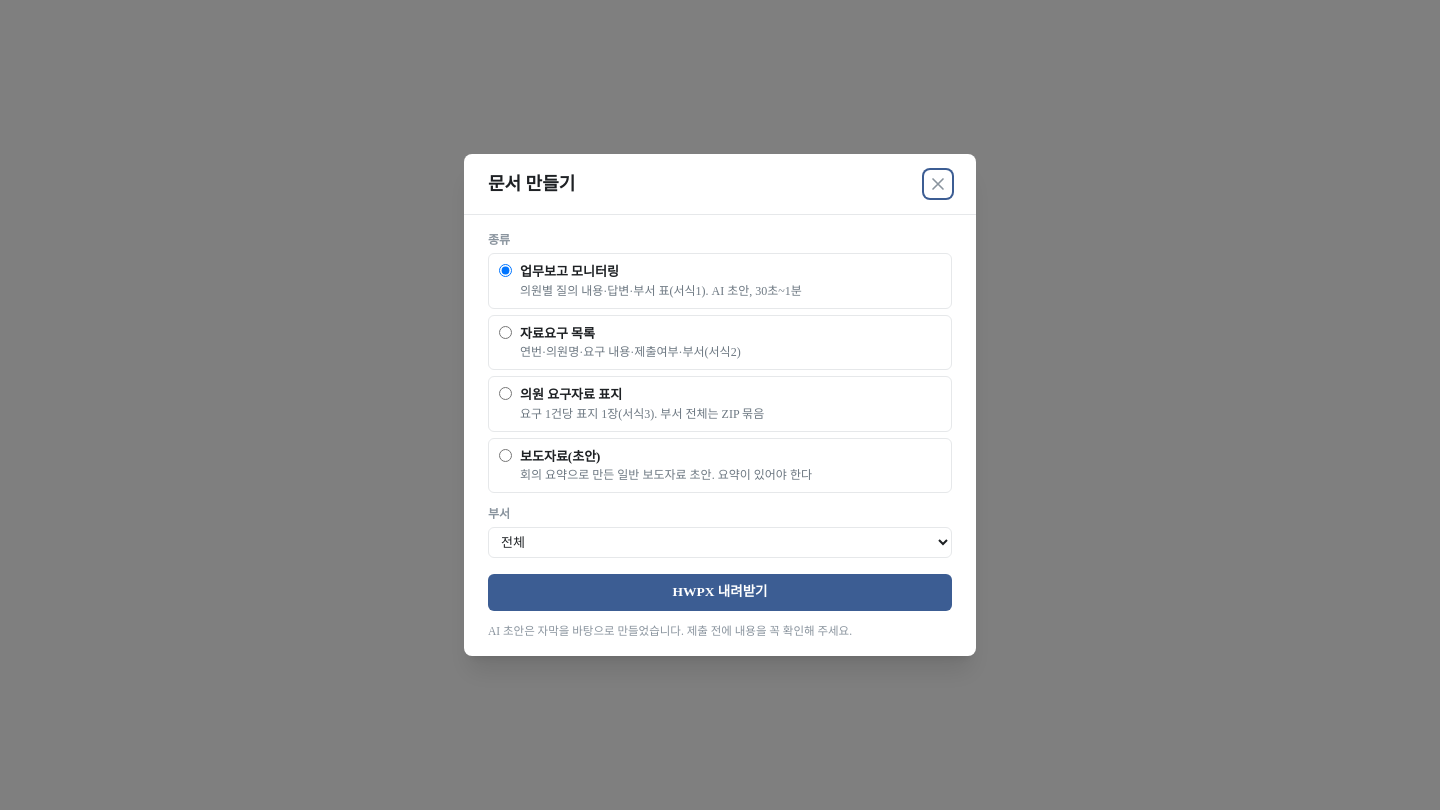
Scenario: MeetingDocumentsModal › cover picks one request or the department bundle, and warns when no summary for press
Click the text "의원 요구자료 표지" at (571, 395), box [520,387,622,402]
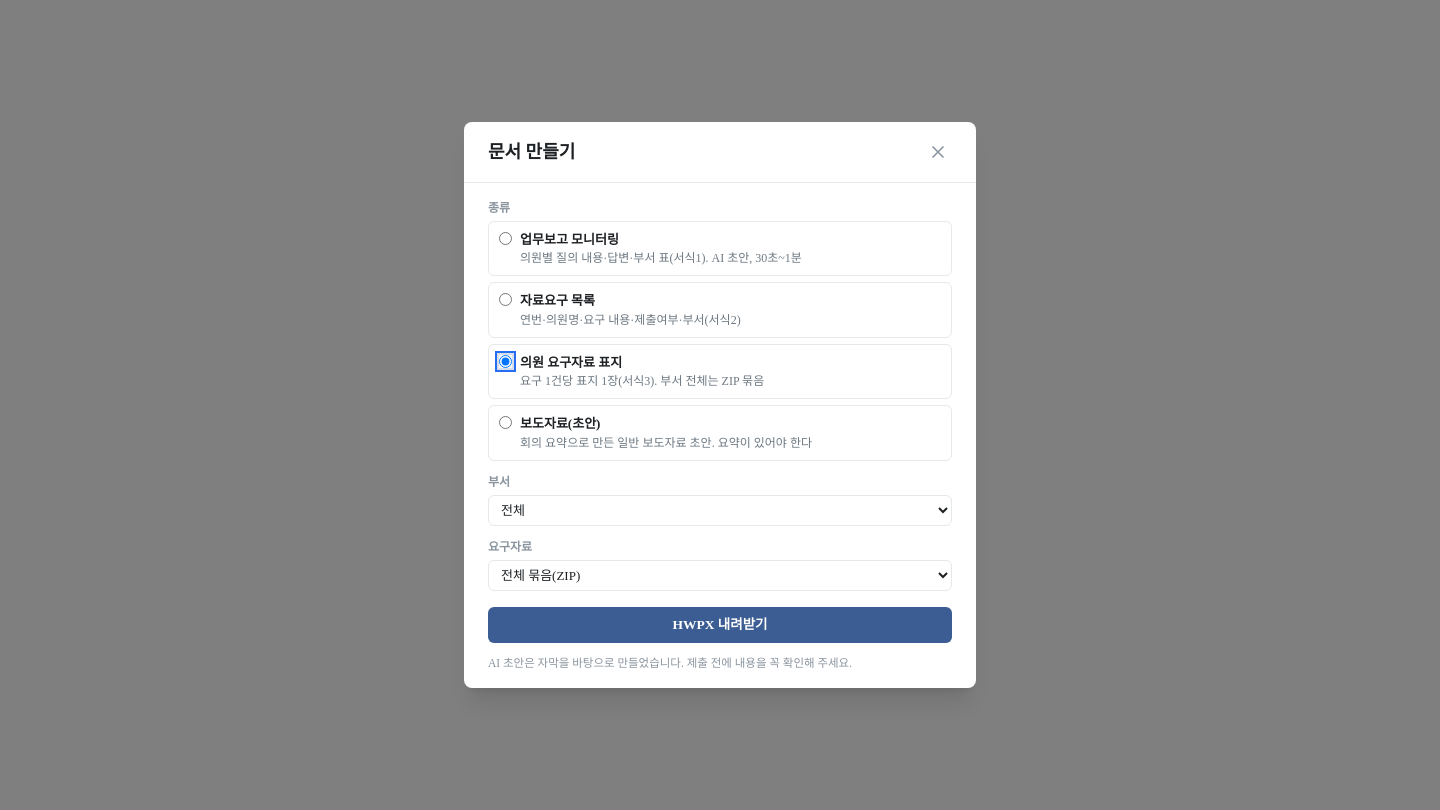
Select "의회사무처" in the dropdown labelled "부서" at (720, 510), box [488,495,952,526]
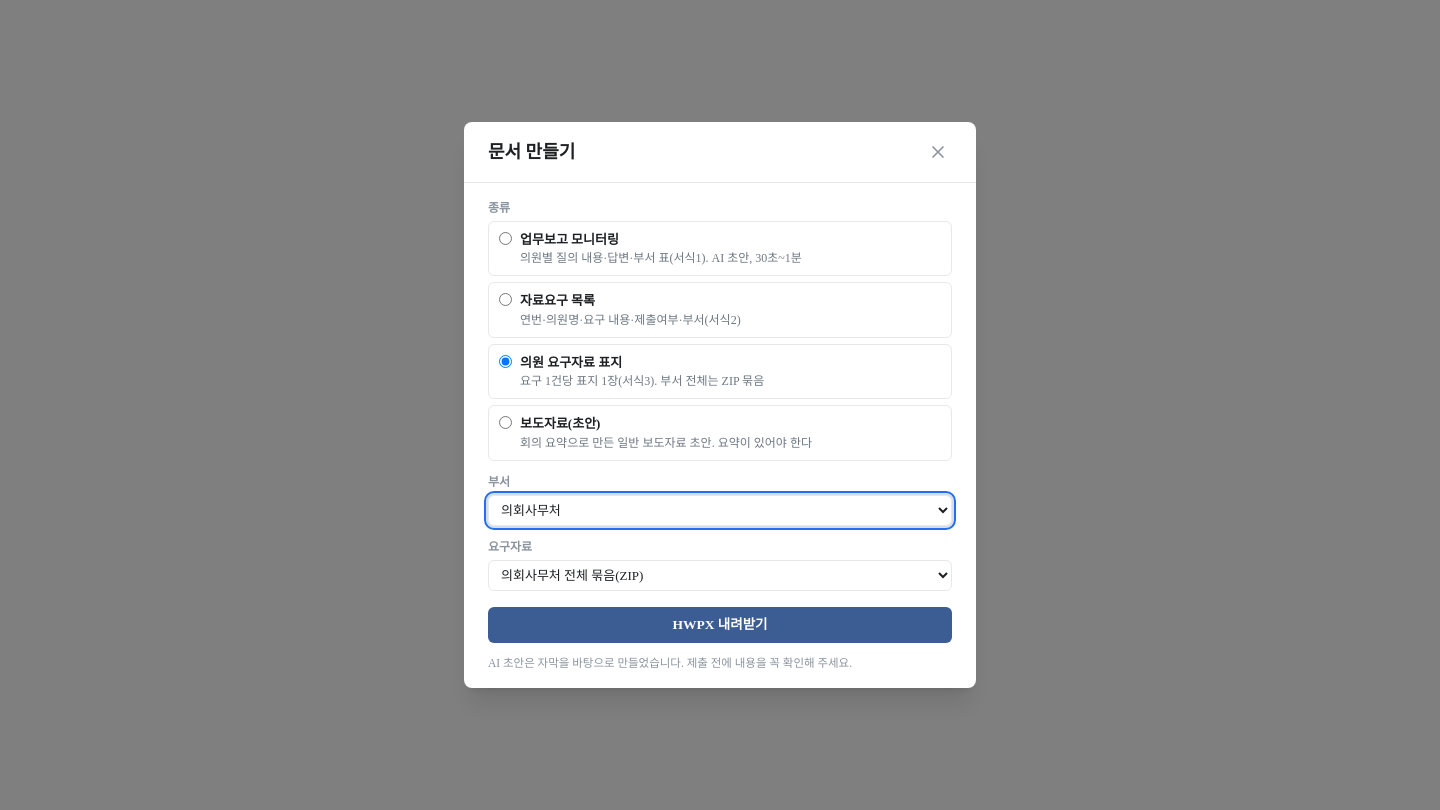
Select "문승호 — 렌탈 계약 현황" in the dropdown labelled "요구자료" at (720, 575), box [488,560,952,591]
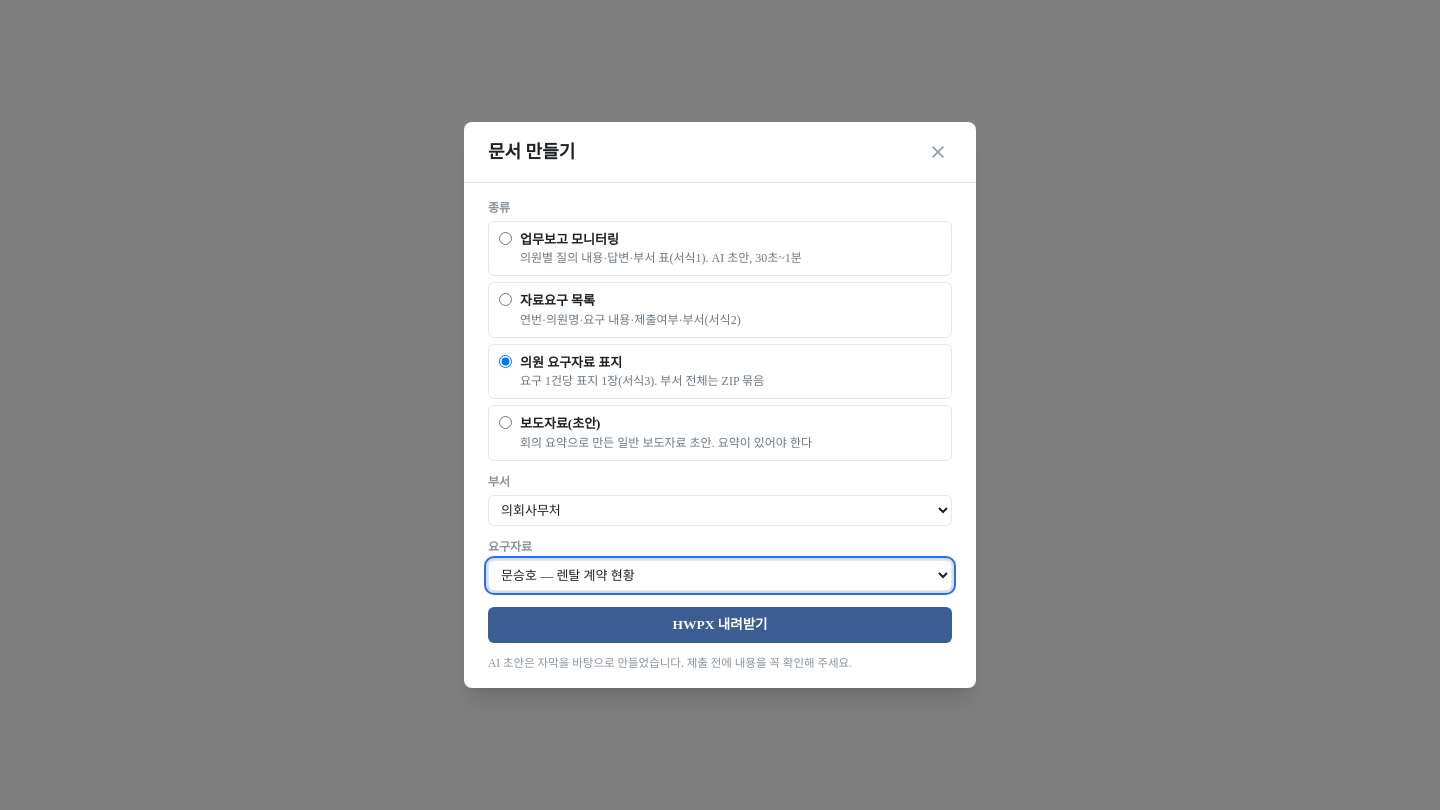
Click the button with test id "meeting-documents-make" at (720, 625), box [488,607,952,643]
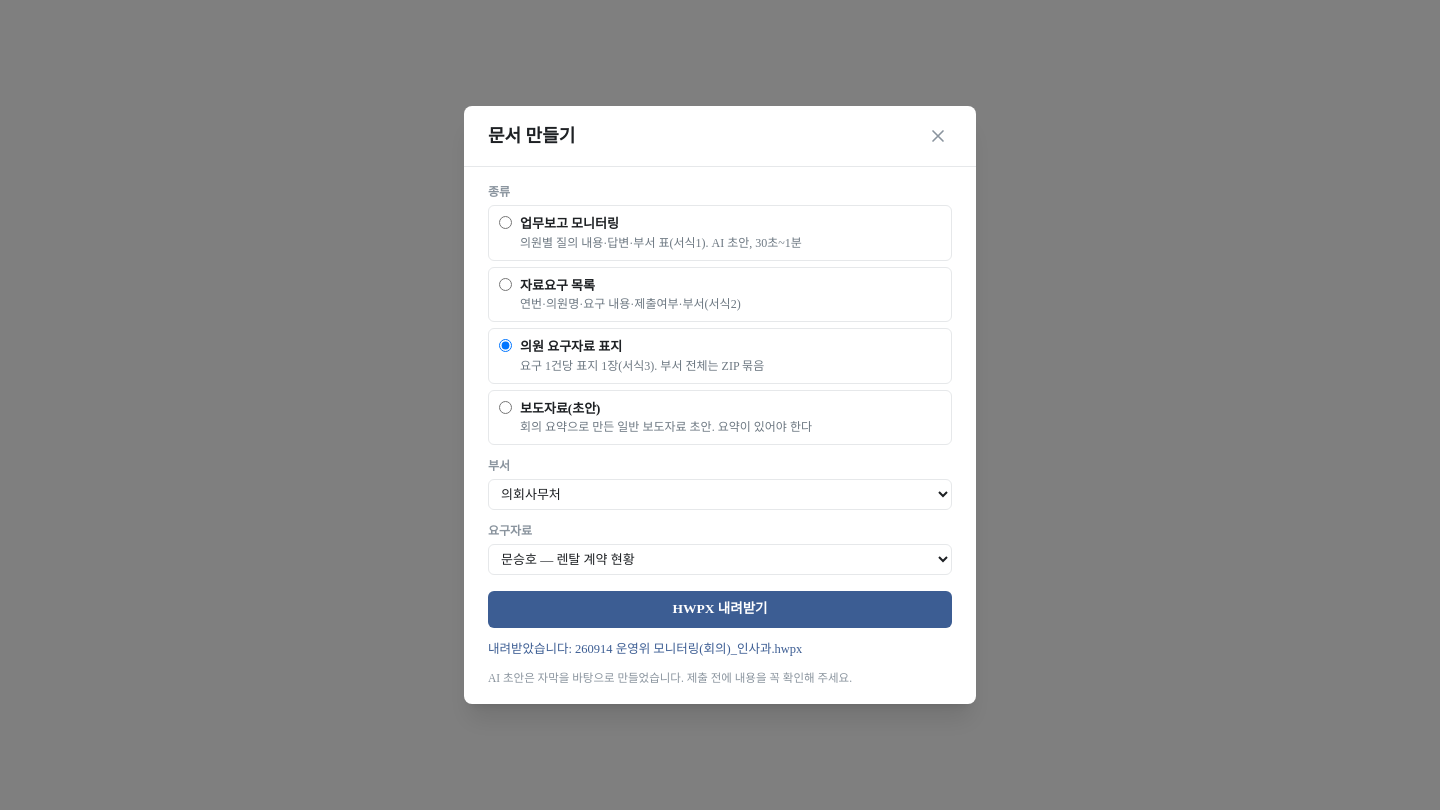
Click the text "보도자료(초안)" at (560, 408), box [520,401,600,416]
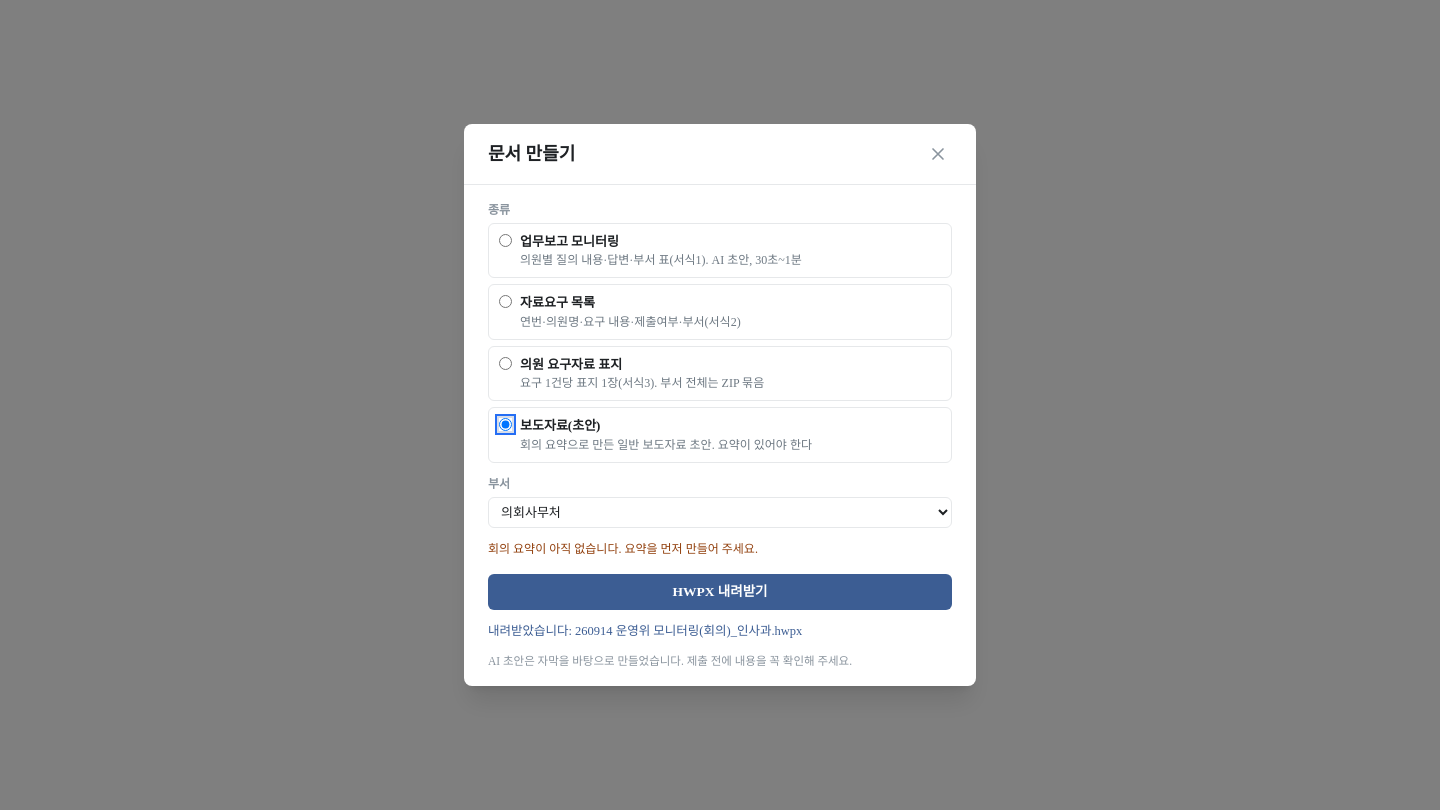
Expected: the text "회의 요약이 아직 없습니다. 요약을 먼저 만들어 주세요." is shown, [488,542,758,556]
